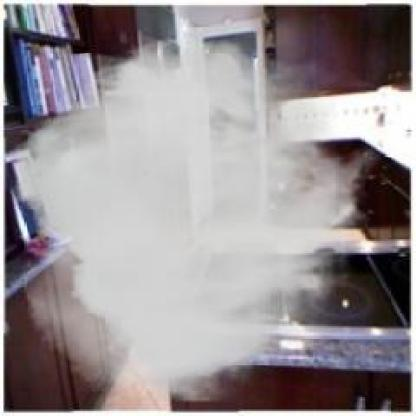Smoke: (15, 34, 382, 401)
